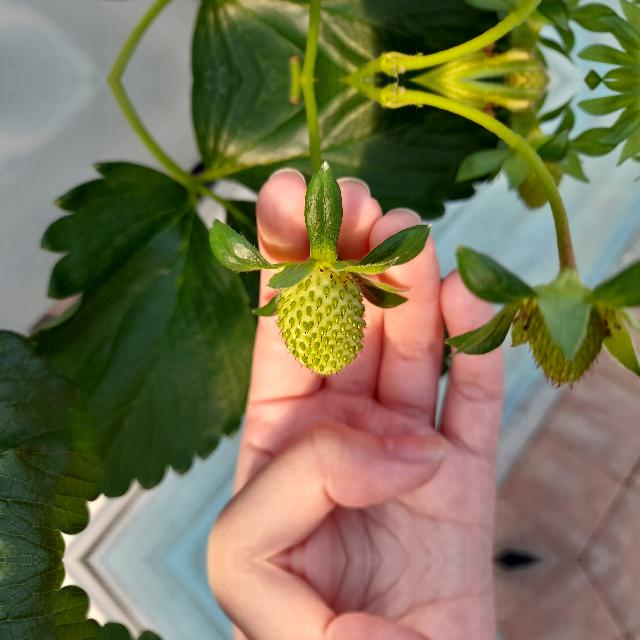Health_25: (274, 260, 368, 378), (522, 270, 612, 386)
